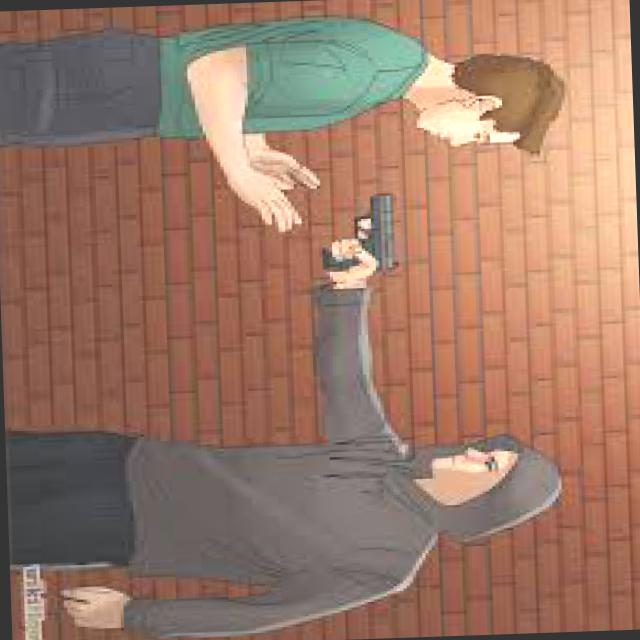handgun: (322, 187, 404, 272)
